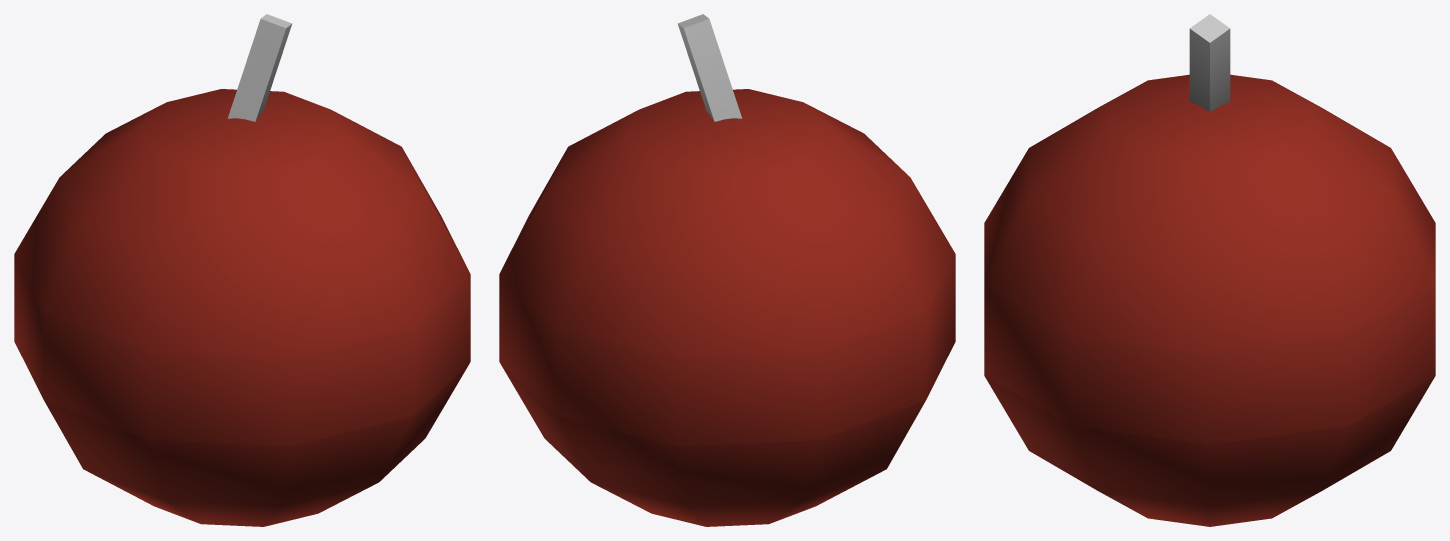
File: manzana.glb
3 views of the same model, side by side, from view 1: azimuth 30°, elevation 25°; view 2: azimuth 150°, elevation 25°; view 3: azimuth 270°, elevation 25° (orthographic). The views are drawn at different scales.
Parts seen in each view (by area): view 1: manzana; view 2: manzana; view 3: manzana.
Boxes of the visible parts, x1,y1,x2,y2 form: manzana: (14, 14, 470, 526); manzana: (499, 14, 955, 526); manzana: (984, 14, 1435, 526).
Size of the model in its own units: 0.0702 by 0.0812 by 0.0668.
